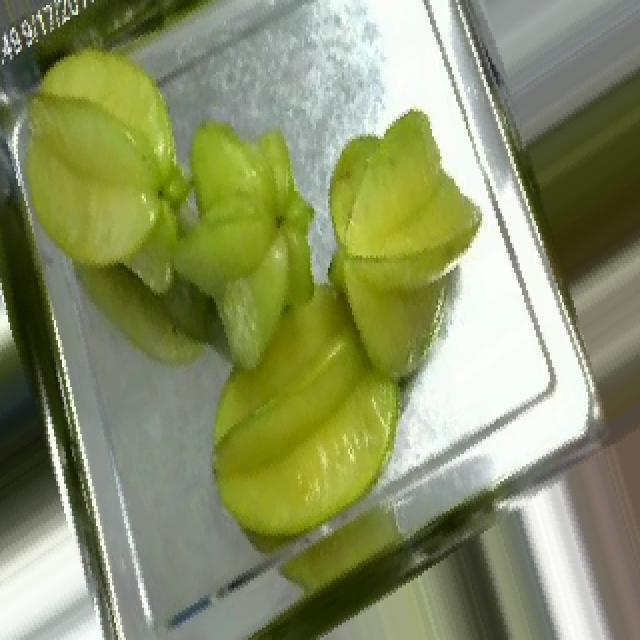fruit: (106, 79, 408, 449), (166, 231, 452, 583), (284, 82, 514, 414), (0, 12, 242, 312), (486, 2, 640, 298), (566, 357, 640, 640)
